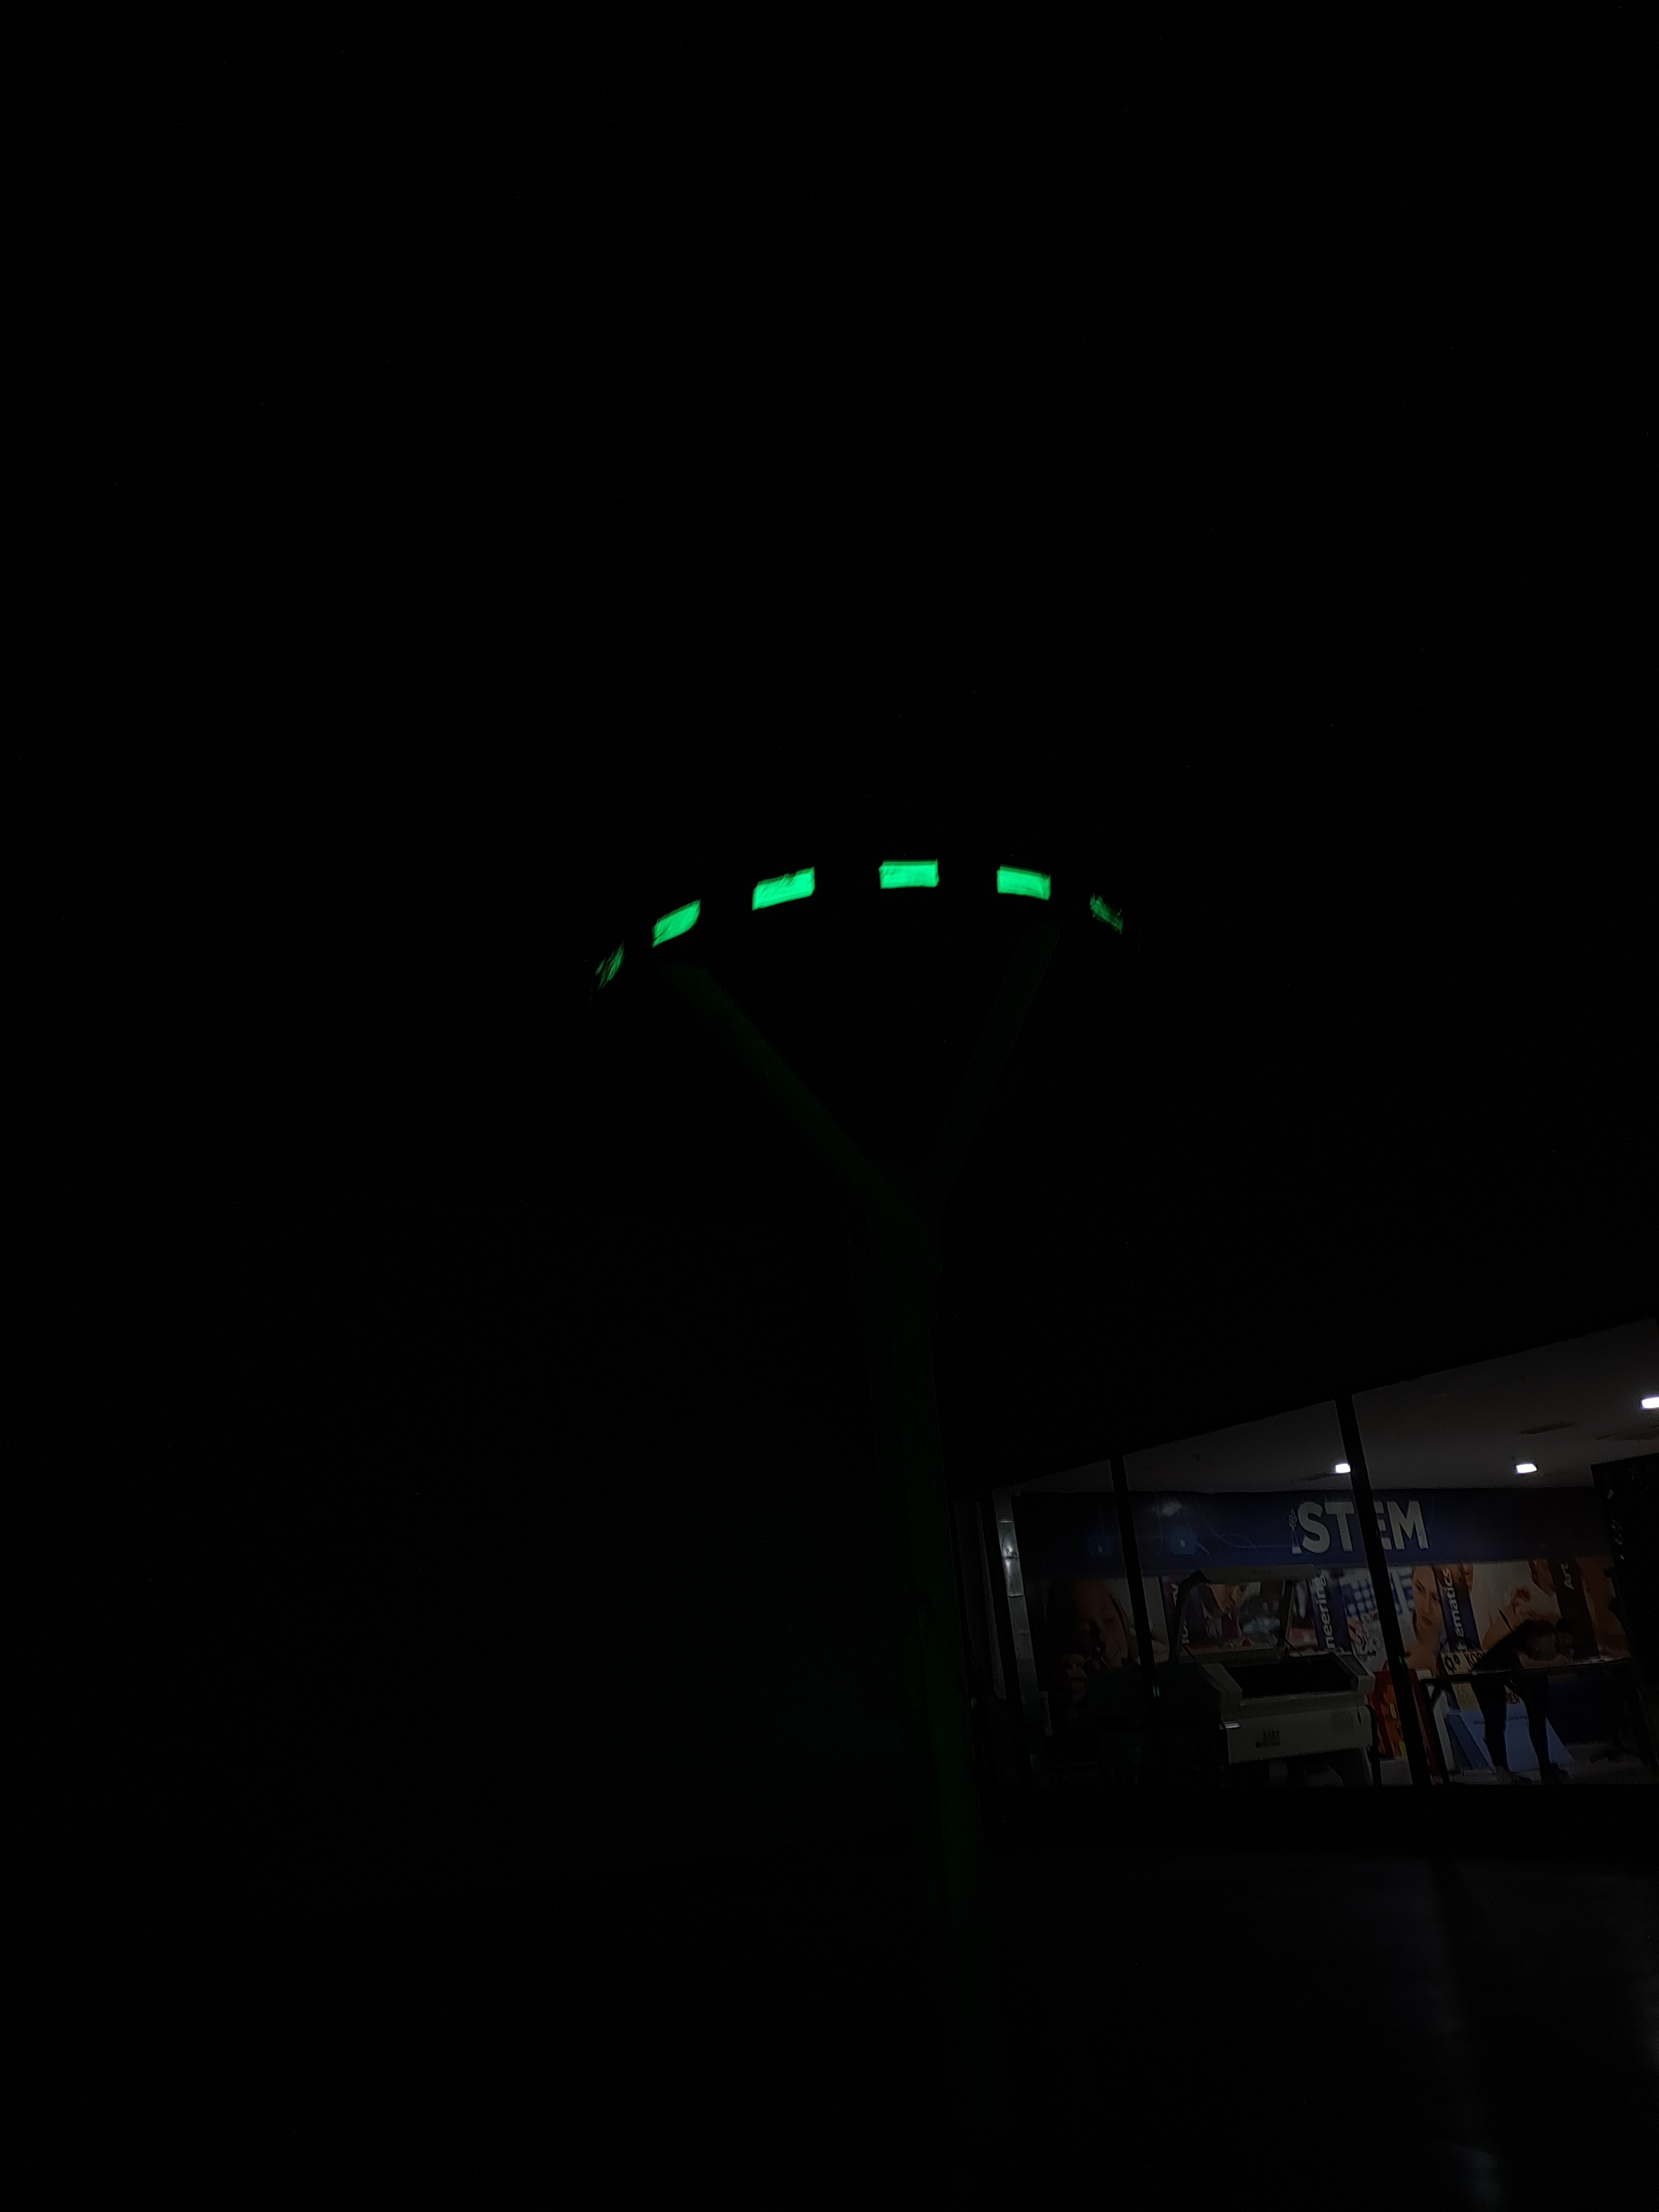hoop: (601, 857, 1124, 979)
